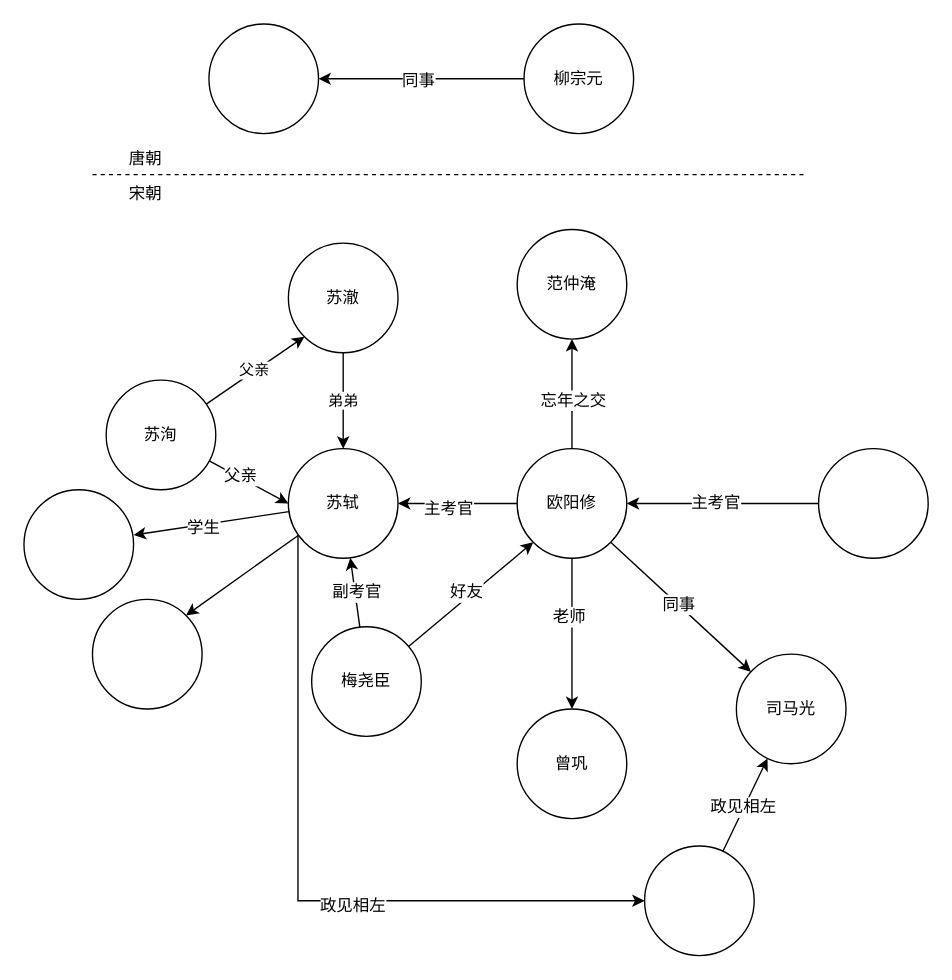
Some shapes in this 952 by 980 pixel diagram are drawn without their labels. Here are the shapes that lost their labels. From the top down, the box of each, then its label:
(208, 23, 319, 134): 韩愈
(817, 447, 928, 558): 晏殊
(23, 488, 134, 599): 秦观
(91, 598, 202, 709): 黄庭坚
(643, 845, 754, 956): 王安石
